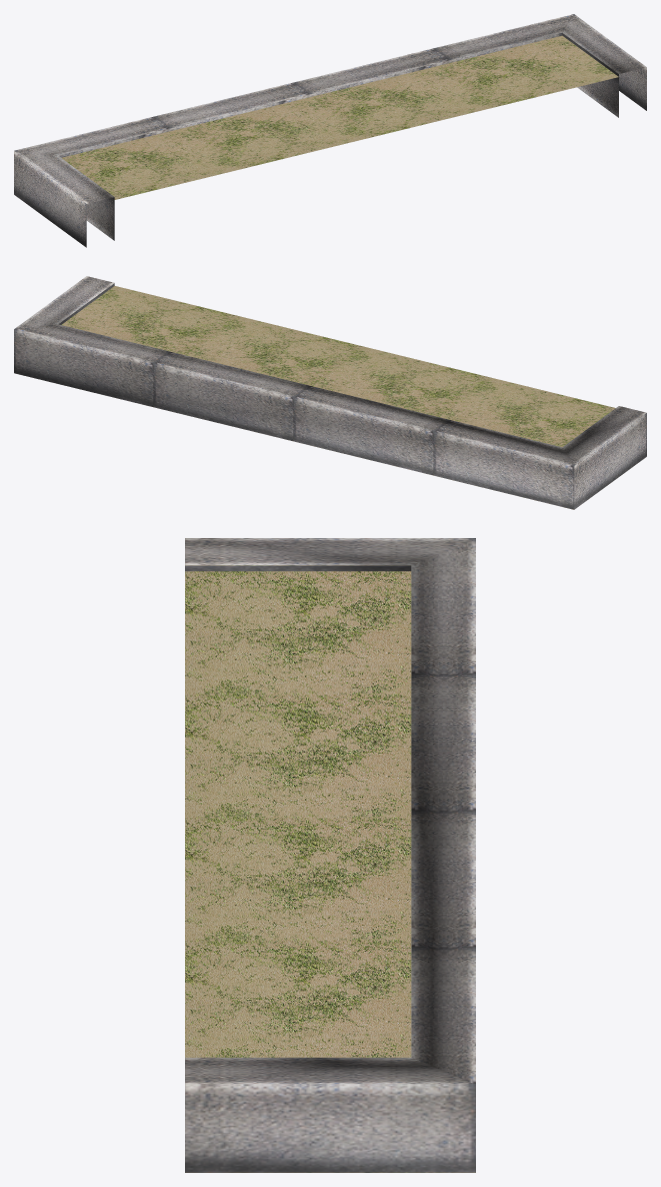
File: FlowerBed.fbx
3 views of the same model, one above another, from view 1: azimuth 30°, elevation 25°; view 2: azimuth 150°, elevation 25°; view 3: azimuth 270°, elevation 25° (orthographic). The views are drawn at different scales.
Parts seen in each view (by area): view 1: 0400_flowerBed; view 2: 0400_flowerBed; view 3: 0400_flowerBed.
Part boxes in pixels (left/top/right/bottom): 0400_flowerBed: left=14, top=14, right=646, bottom=247; 0400_flowerBed: left=14, top=276, right=646, bottom=509; 0400_flowerBed: left=185, top=538, right=475, bottom=1172.
Bounding box in the file's own units: 2 × 0.15 × 0.45.
